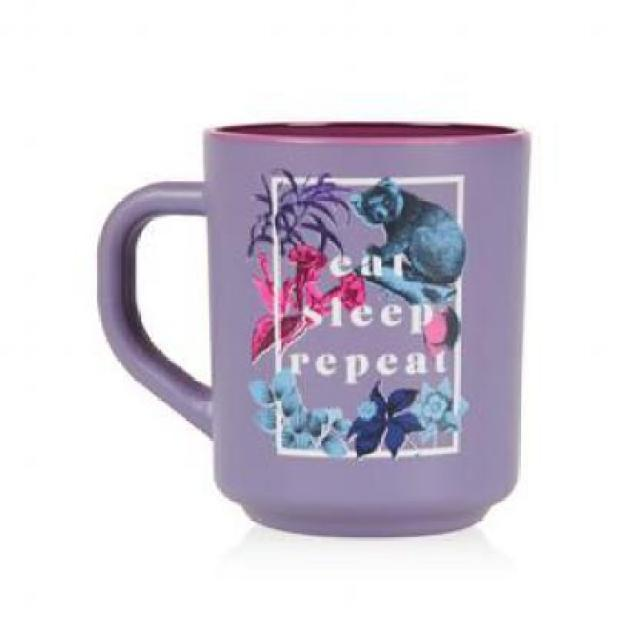taza: (94, 120, 532, 536)
